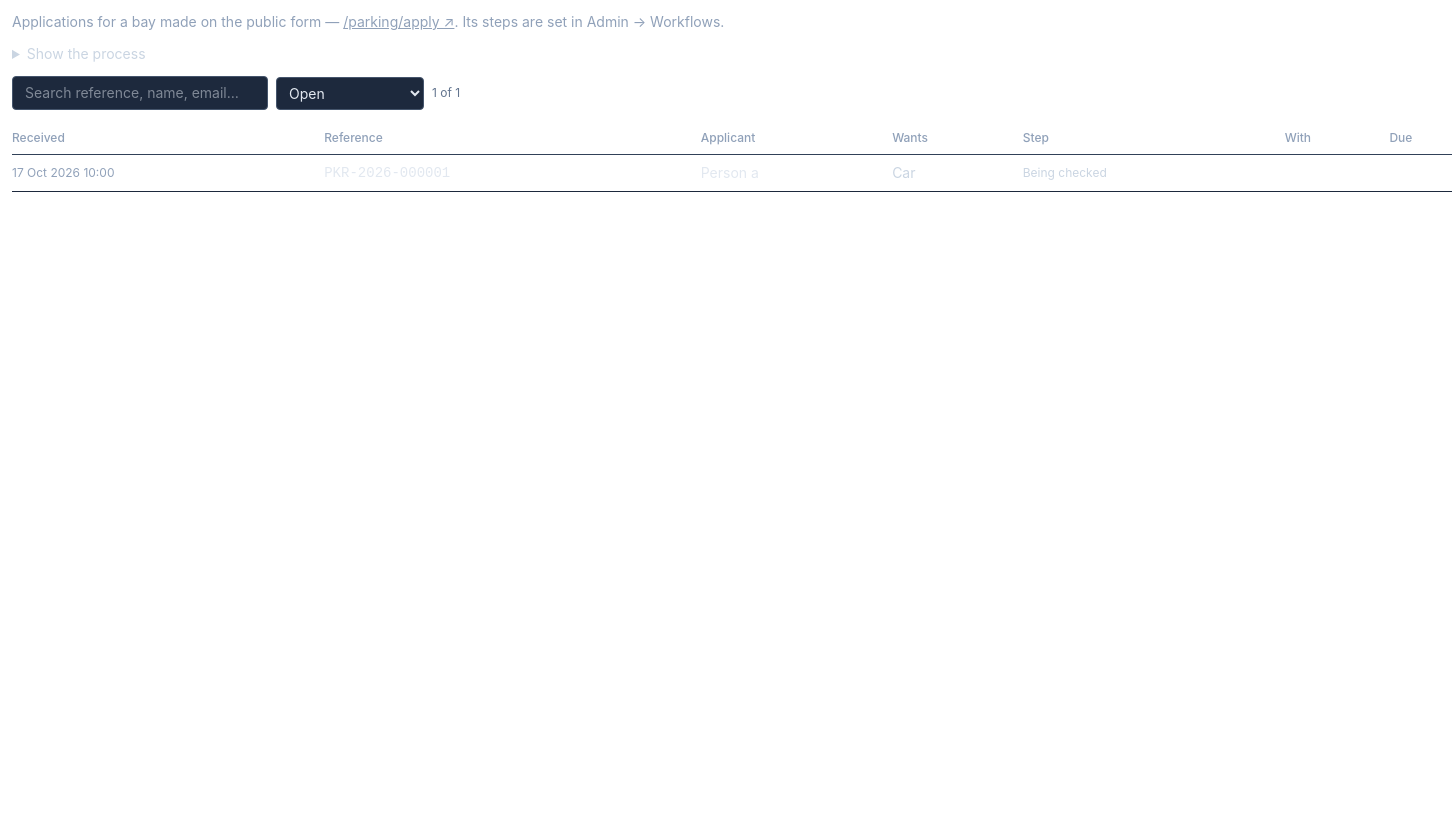
Parking → Applications › a four-eyes move is held back for the person who made the last move; an assignee-only move until it is theirs — each saying why
Click the text "PKR-2026-000001" at (387, 173), box left=324, top=154, right=701, bottom=192
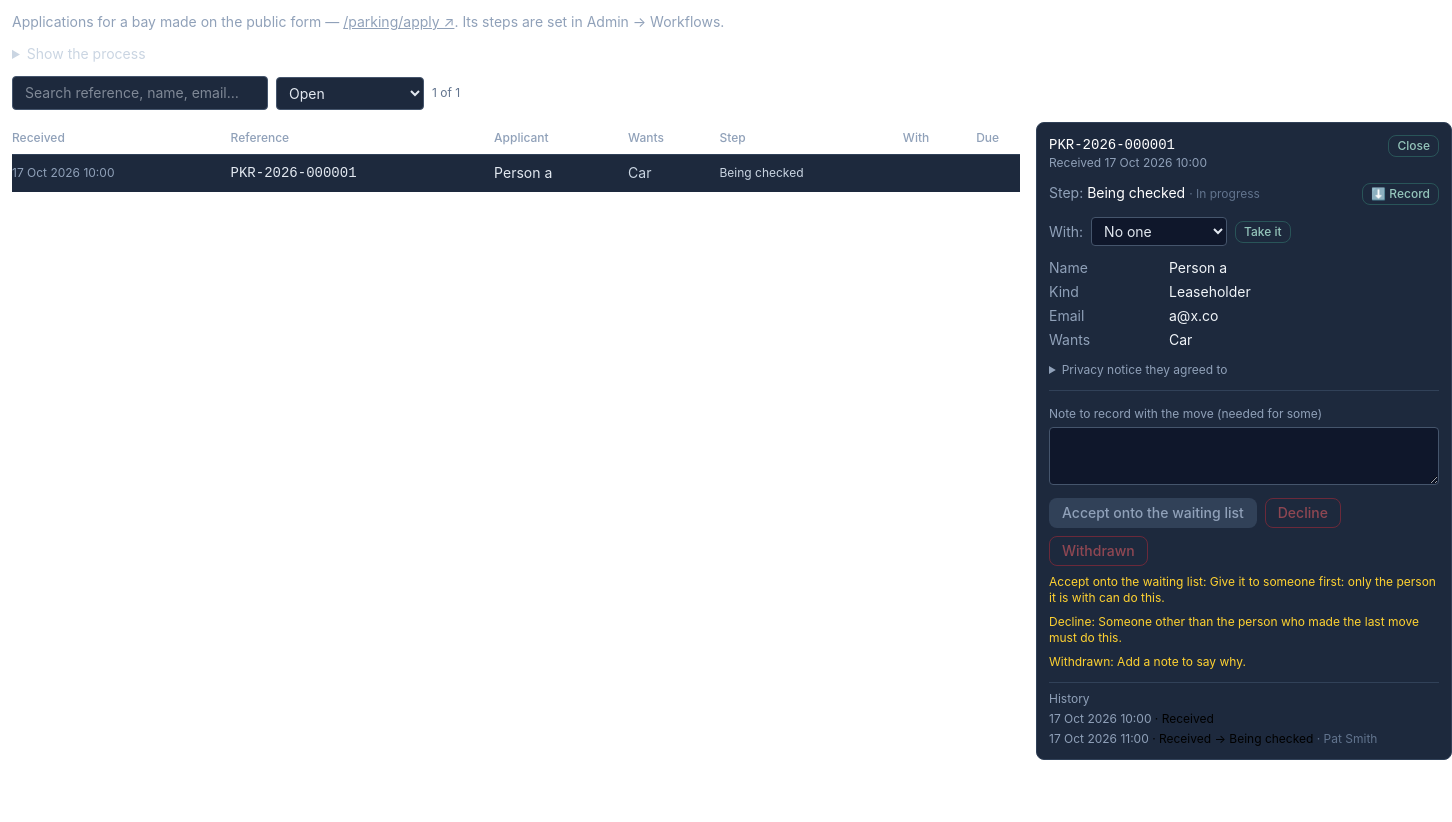
Type "a reason" into the text box labelled "Note to record with the move (needed for some)" at (1244, 456), box left=1049, top=427, right=1439, bottom=485
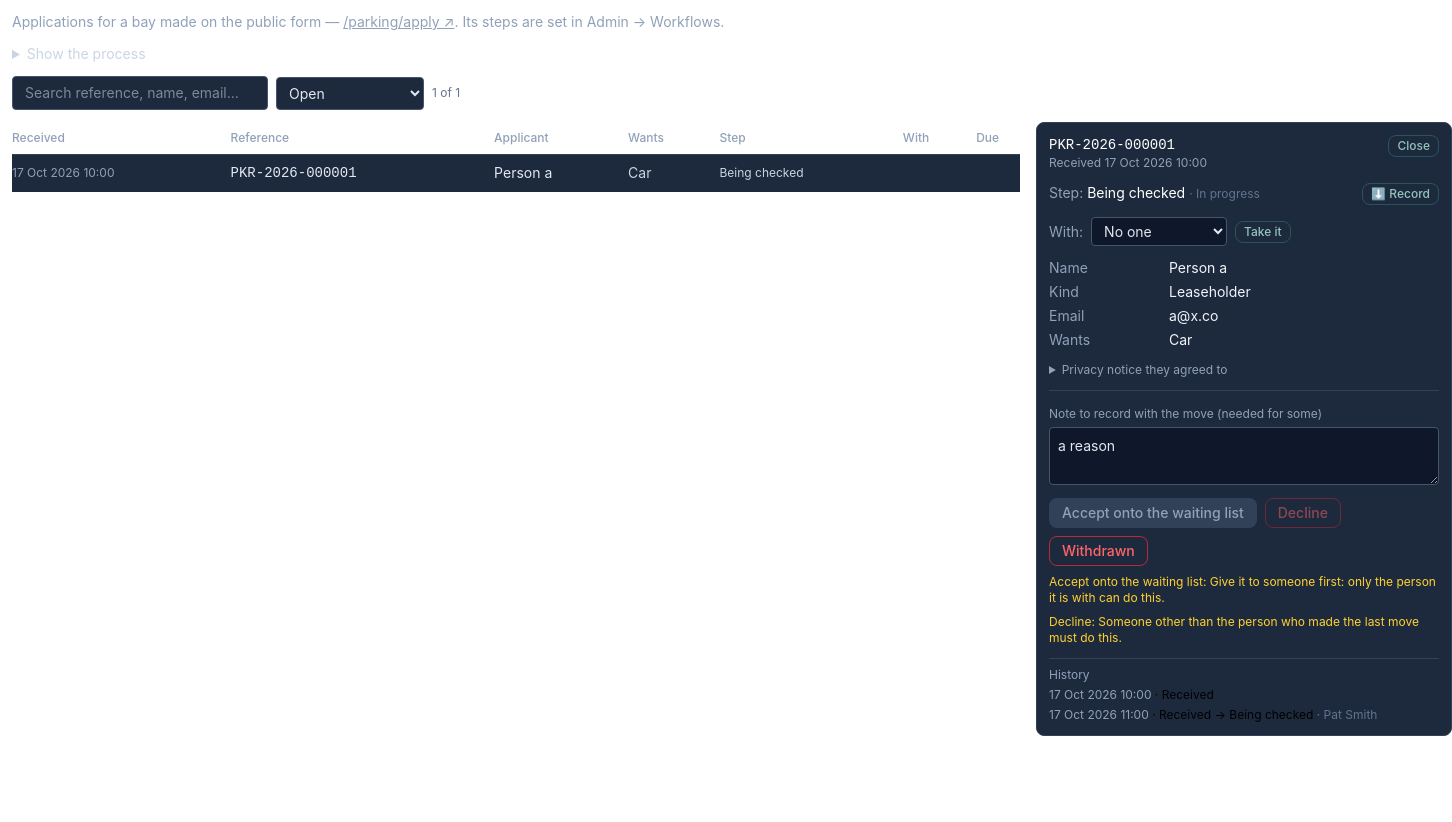
Now the button "Decline" is disabled, box left=1265, top=498, right=1341, bottom=528
Now the button "Accept onto the waiting list" is disabled, box left=1049, top=498, right=1257, bottom=528
Now the button "Withdrawn" is enabled, box left=1049, top=536, right=1148, bottom=566
